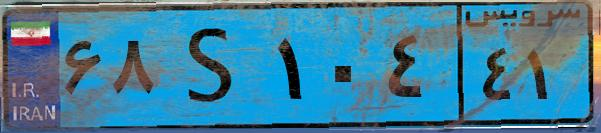0: (330, 28, 385, 110)
1: (270, 28, 330, 110), (525, 38, 570, 115)
4: (385, 28, 445, 110), (475, 38, 525, 113)
6: (57, 26, 110, 100)
8: (110, 28, 158, 98)
S: (158, 12, 270, 120)
